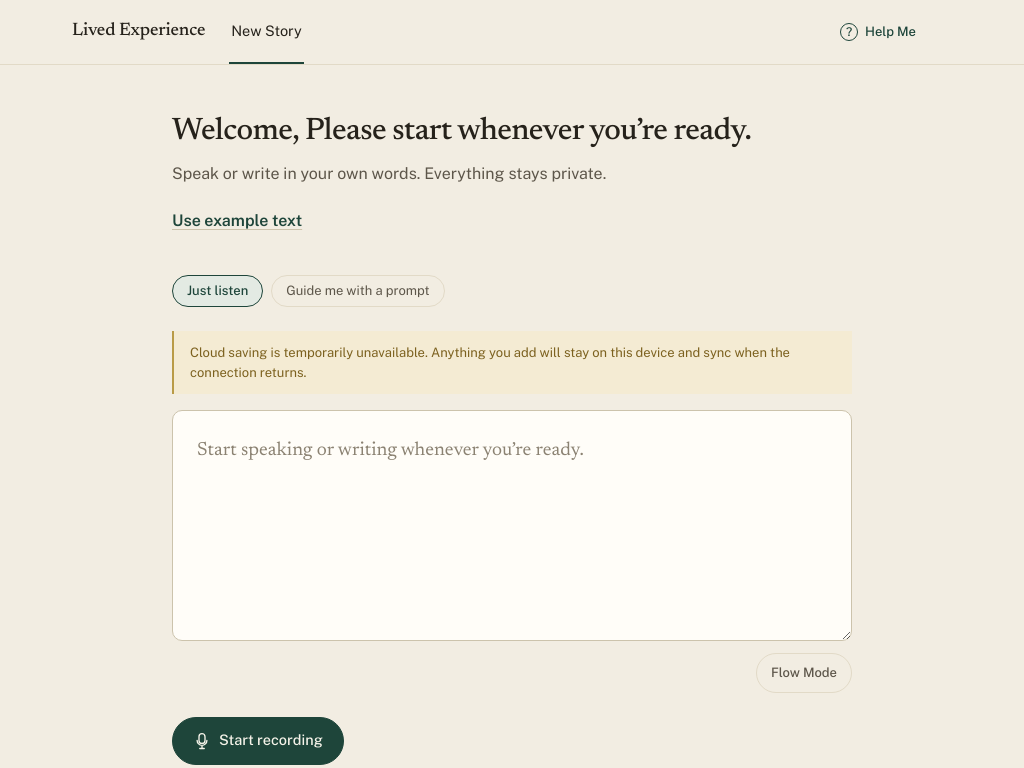
Test: App capture integration › sends an OTP only after local save and keeps the status device-only
This screenshot has width=1024, height=768.
Type "A synthetic story kept safely on this device." into the text box named "Write or edit your story" at (512, 525), box [172,410,852,641]
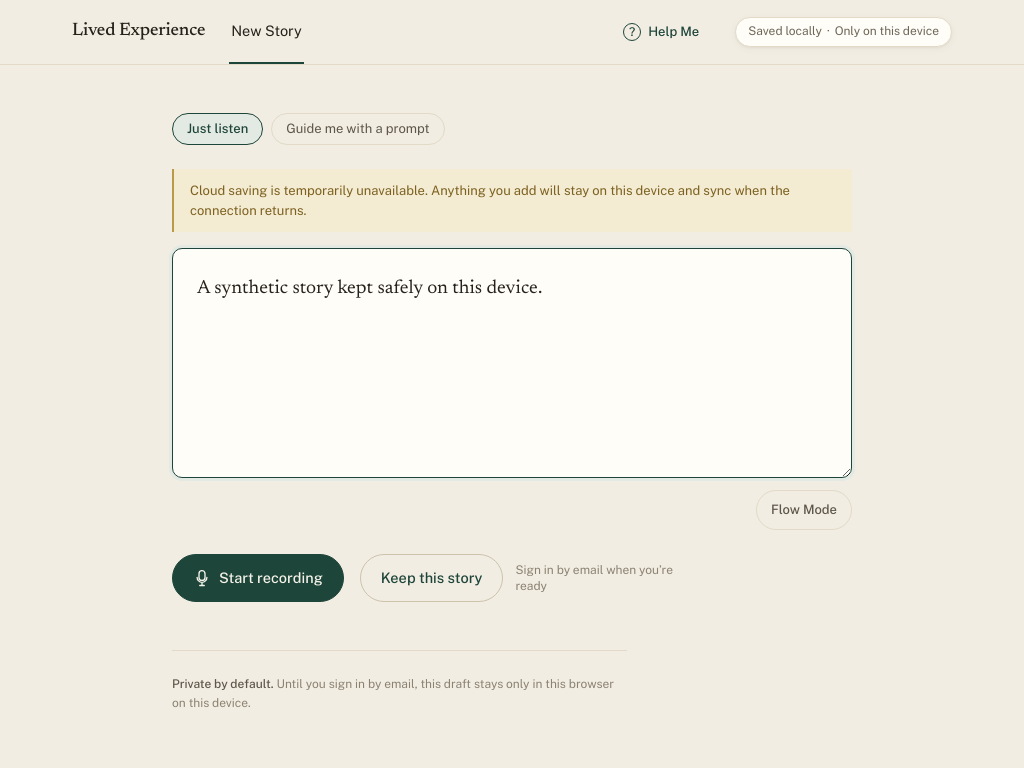
Check: the text "Saved locally" is shown, box [748,24,822,40]
Click the button "Keep this story" at (432, 578), box [360,554,504,602]
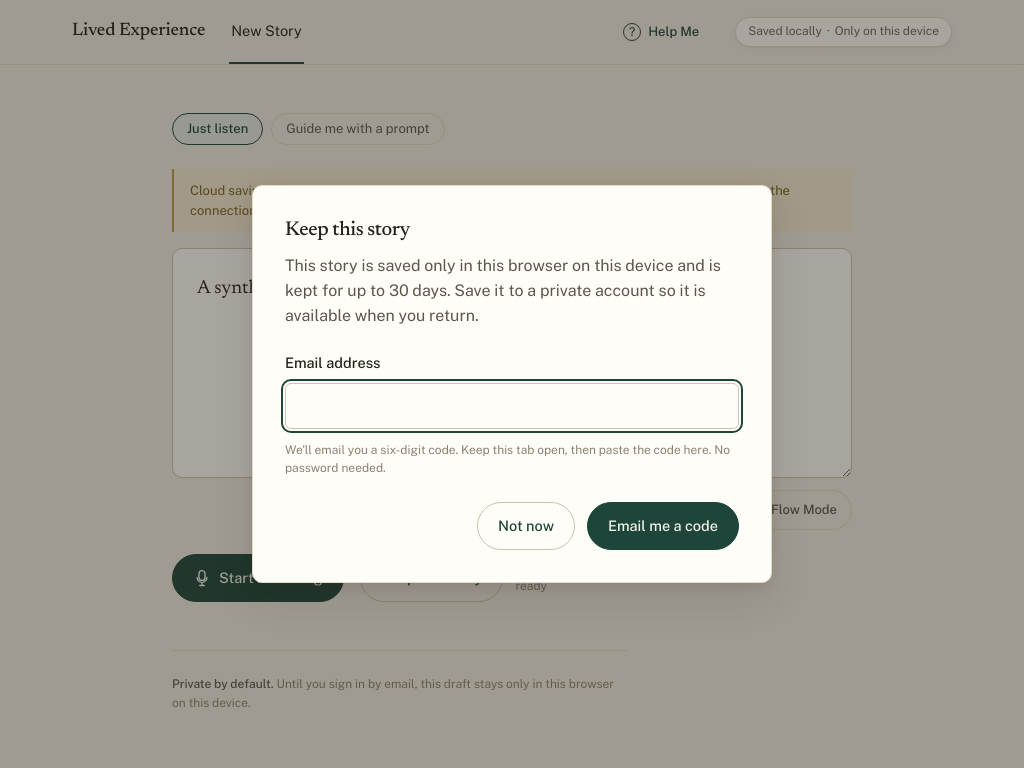
Type "person@example.test" into the field labelled "Email address" at (512, 406), box [285,383,739,429]
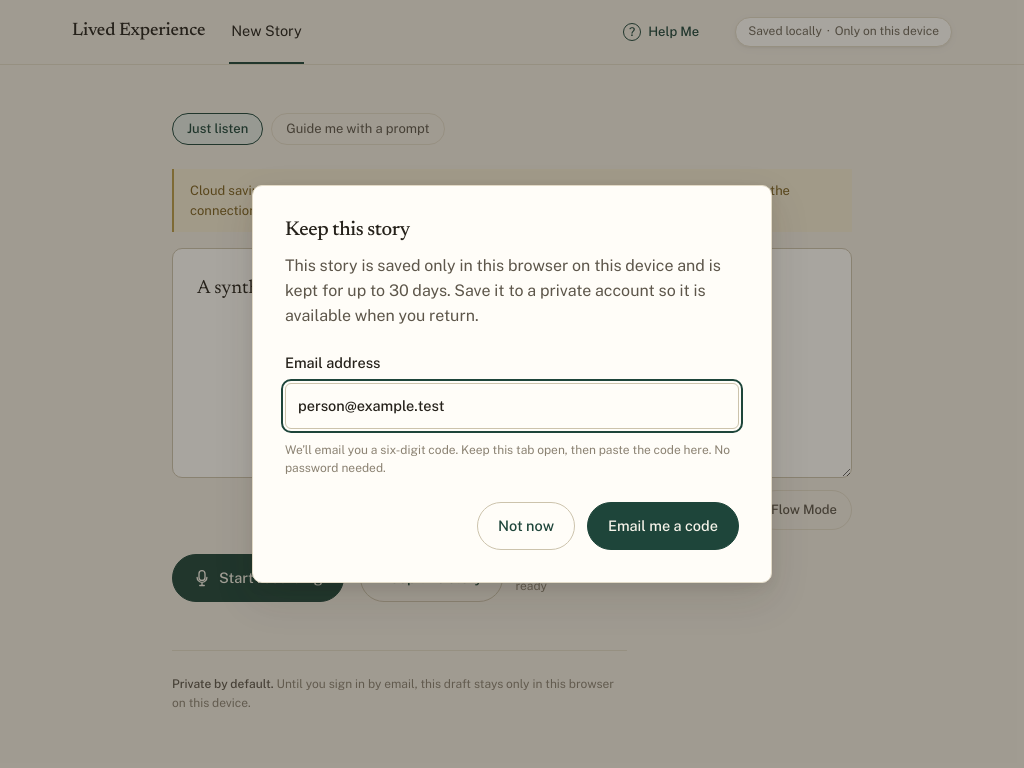
Click the button "Email me a code" at (663, 526), box [587,502,739,550]
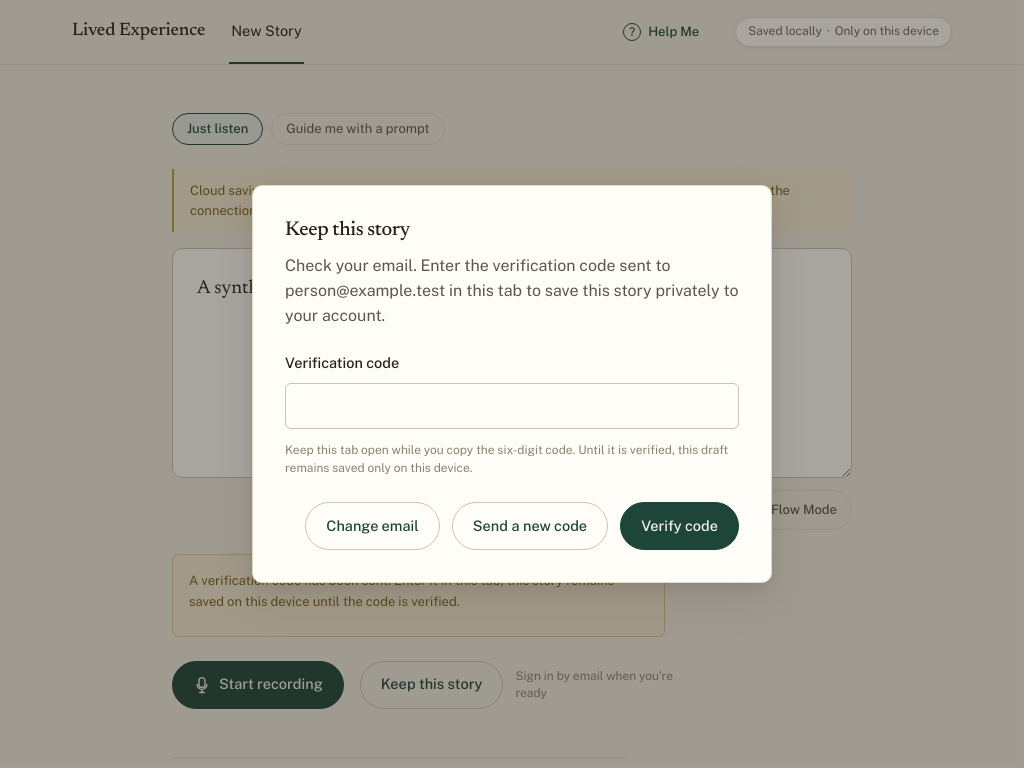
Check: the text "Saved locally" is shown, box [748,24,822,40]
Check: the text "Check your email" is shown, box [285,256,670,275]
